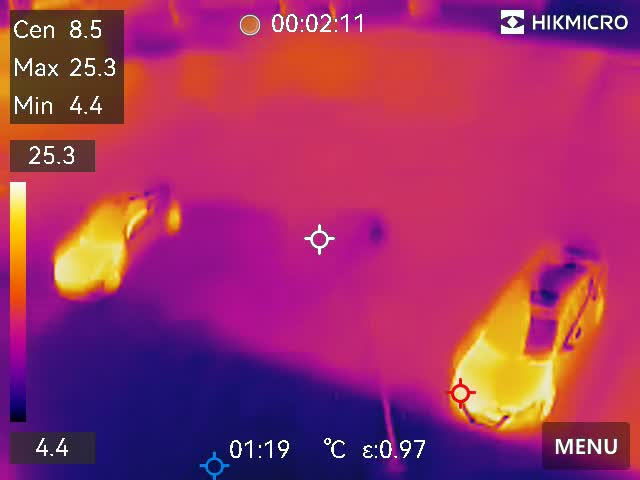smallCar: (445, 230, 615, 462), (47, 179, 186, 302)
